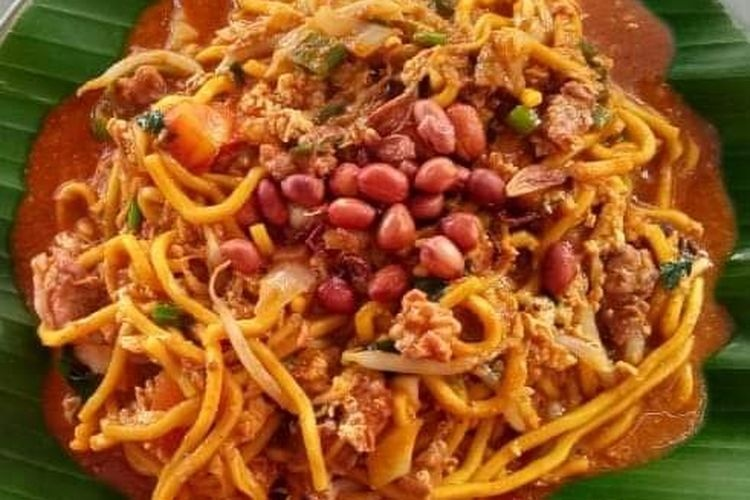mie_aceh: (52, 3, 740, 494)
